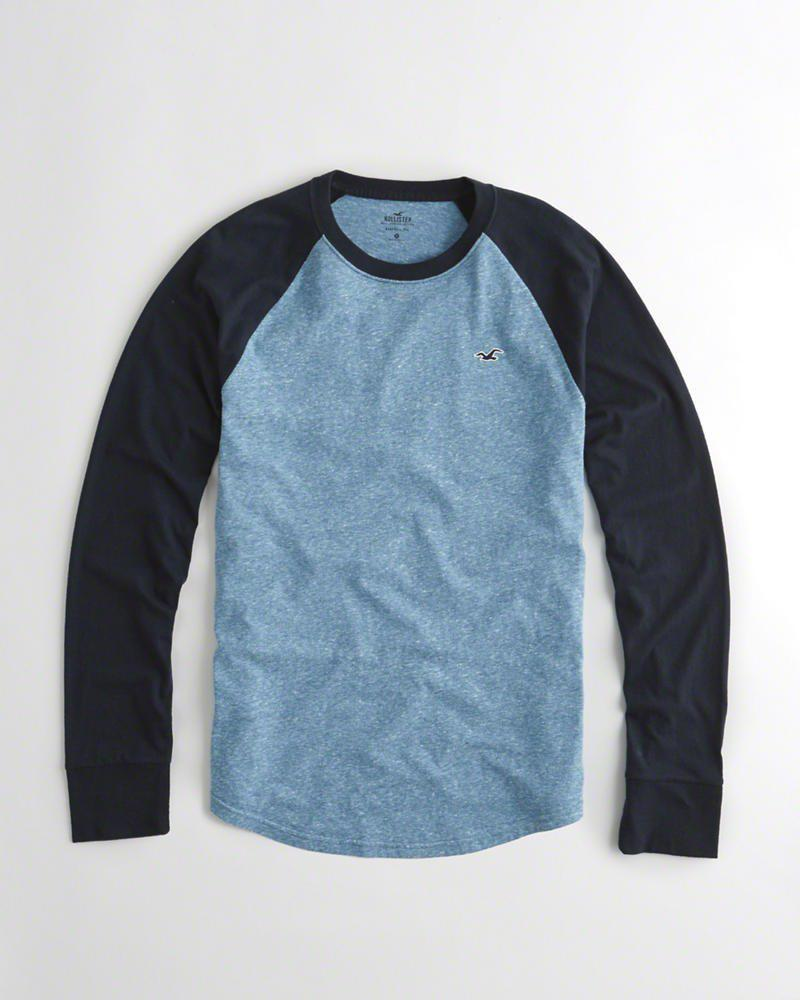teeshirt: (27, 153, 797, 945)
